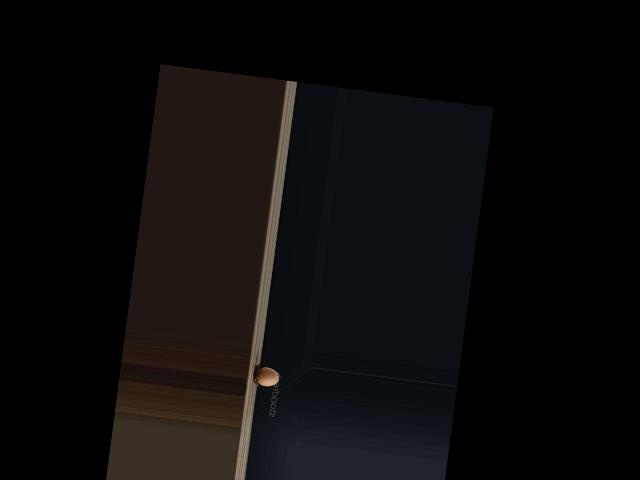egg: (257, 365, 280, 387)
